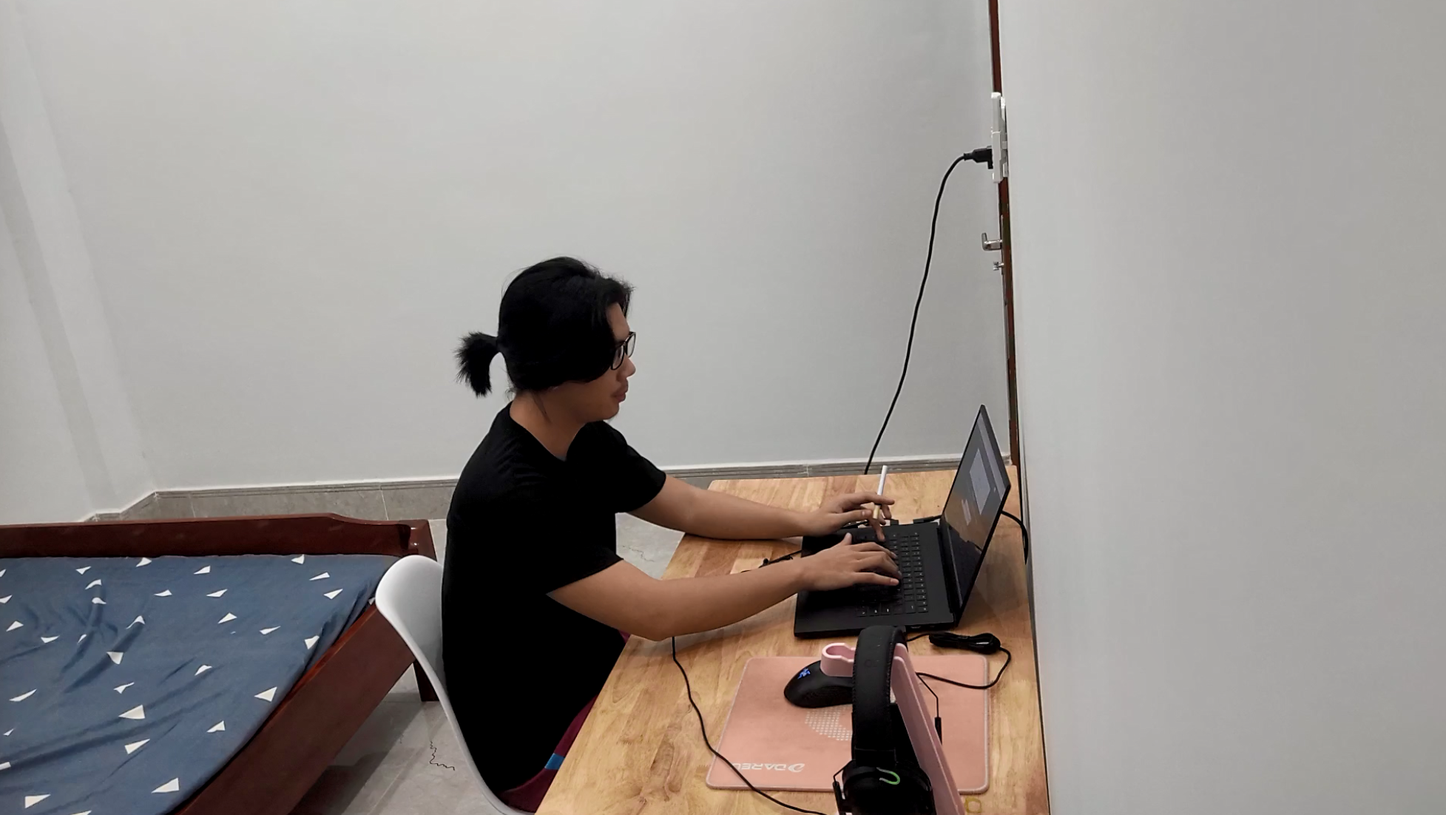cigarette: (875, 464, 893, 510)
person: (419, 217, 725, 815)
